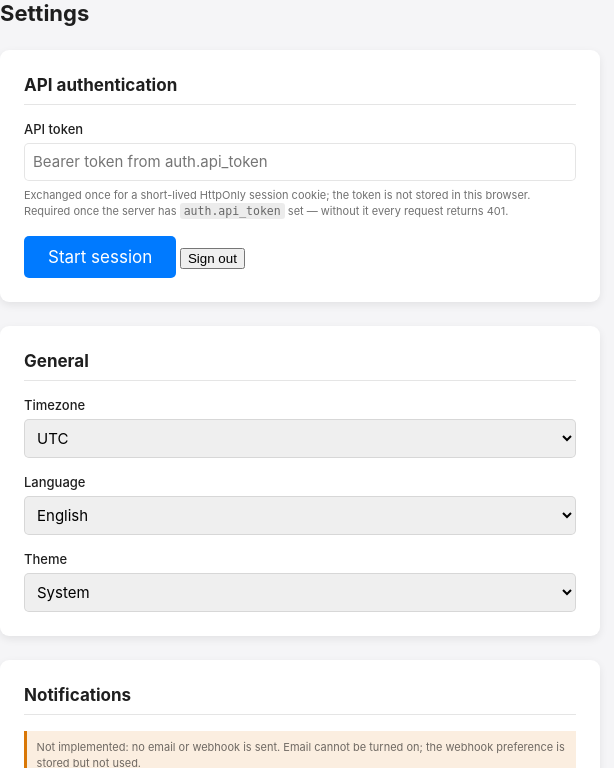
SettingsView session controls › starts a session from the entered token and clears the field
Type "  deploy-token  " into the password field named "api token" at (300, 162), box [24, 143, 576, 181]
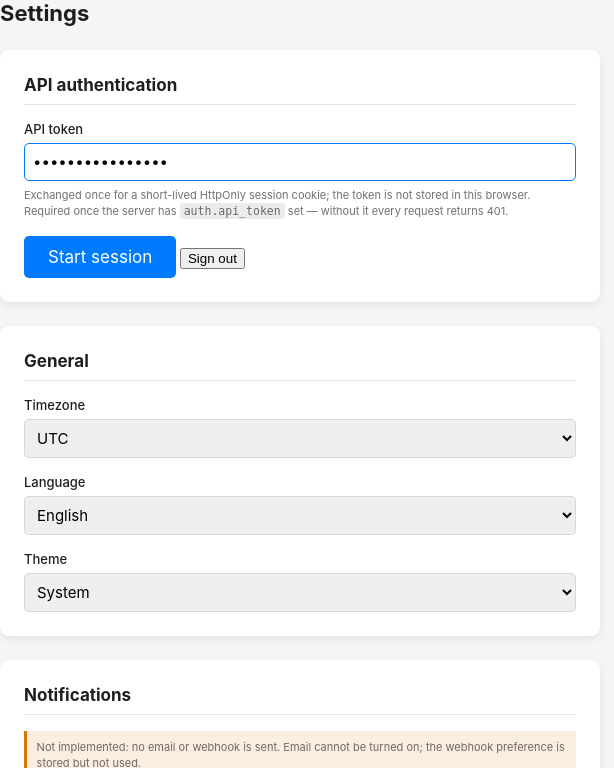
Click the button named "start session" at (100, 257), box [24, 236, 176, 278]
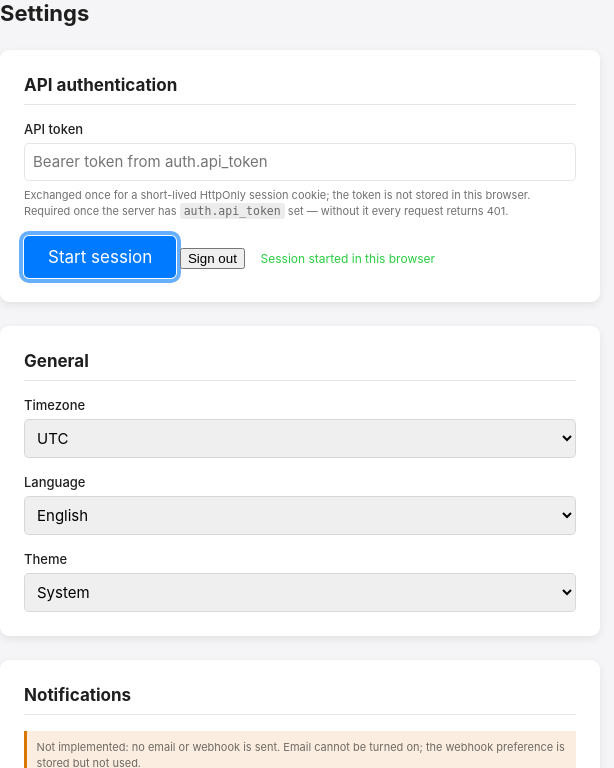
Expected: the text "session started in this browser" below "auth.api_token" is shown, [260, 251, 435, 266]
Expected: the password field named "api token" is empty, [24, 143, 576, 181]
